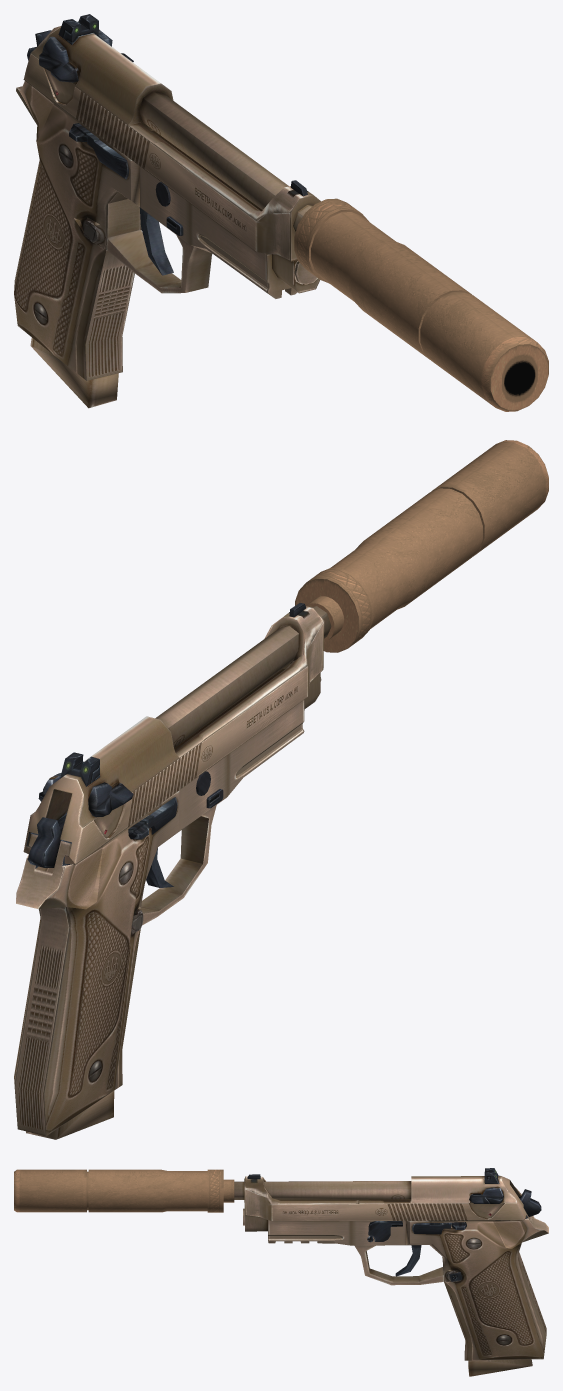
Rendered from custom-model-model.glb.
The picture shows the model from 3 angles, top to bottom: view 1: azimuth 30°, elevation 25°; view 2: azimuth 150°, elevation 25°; view 3: azimuth 270°, elevation 25°; orthographic projection. The views are drawn at different scales.
Parts seen in each view (by area): view 1: Object_3, Object_2; view 2: Object_3, Object_2; view 3: Object_3, Object_2.
Part boxes in pixels (box(x1,y1,x2,y2)): Object_3: box(14, 14, 320, 408); Object_2: box(294, 198, 548, 411); Object_3: box(14, 603, 331, 1139); Object_2: box(295, 440, 548, 652); Object_3: box(234, 1168, 548, 1376); Object_2: box(14, 1169, 234, 1212).
Bounding box in the file's own units: 2.24 × 10.81 × 26.02.
Materials: 2 (2 with a texture image).
